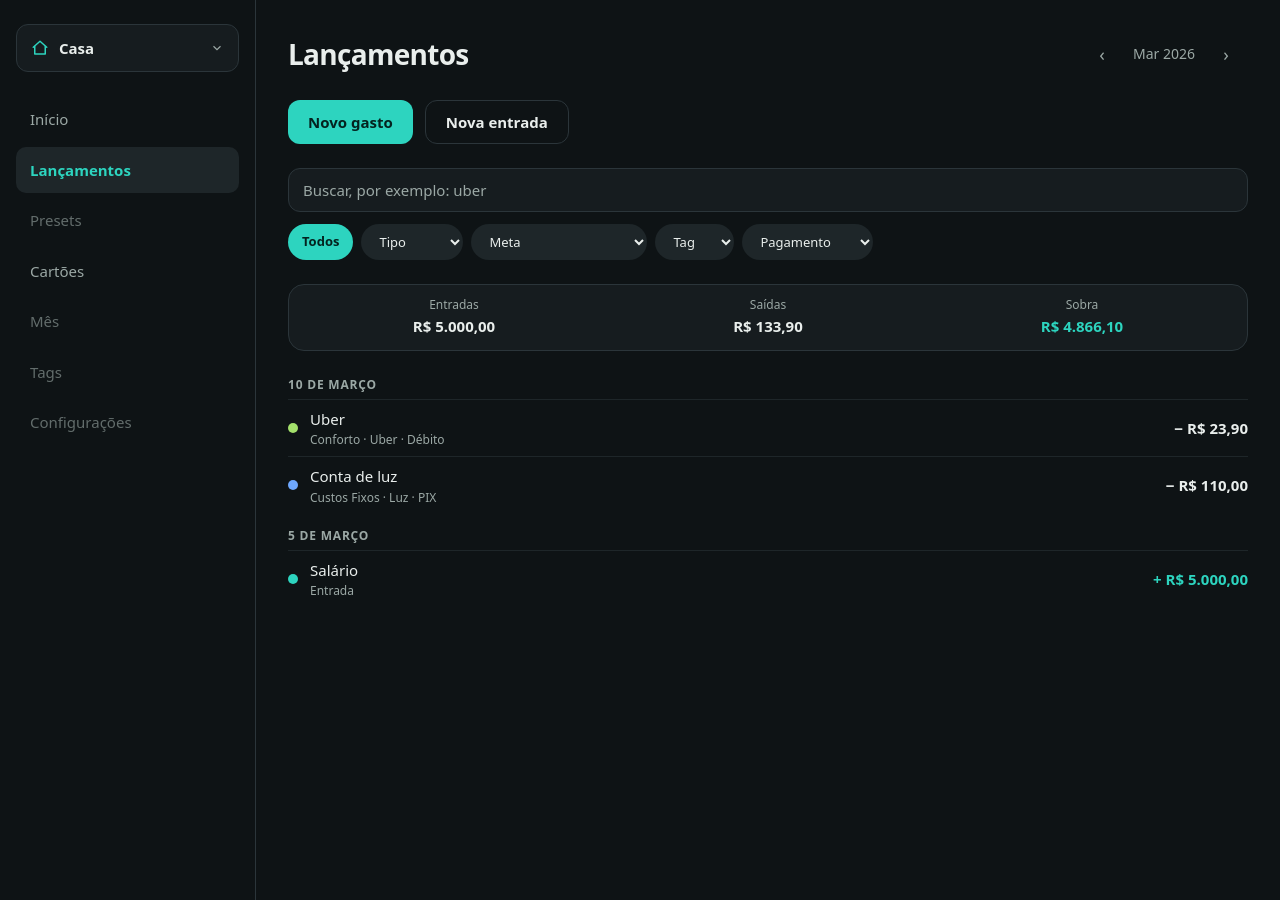
it: lista de lançamentos › trocar de mês refaz a consulta com o mês novo
Check: the text "Mar 2026" is shown, box [1133,44,1195,63]
Click the button named "Próximo mês" at (1226, 54), box [1204,32,1248,76]
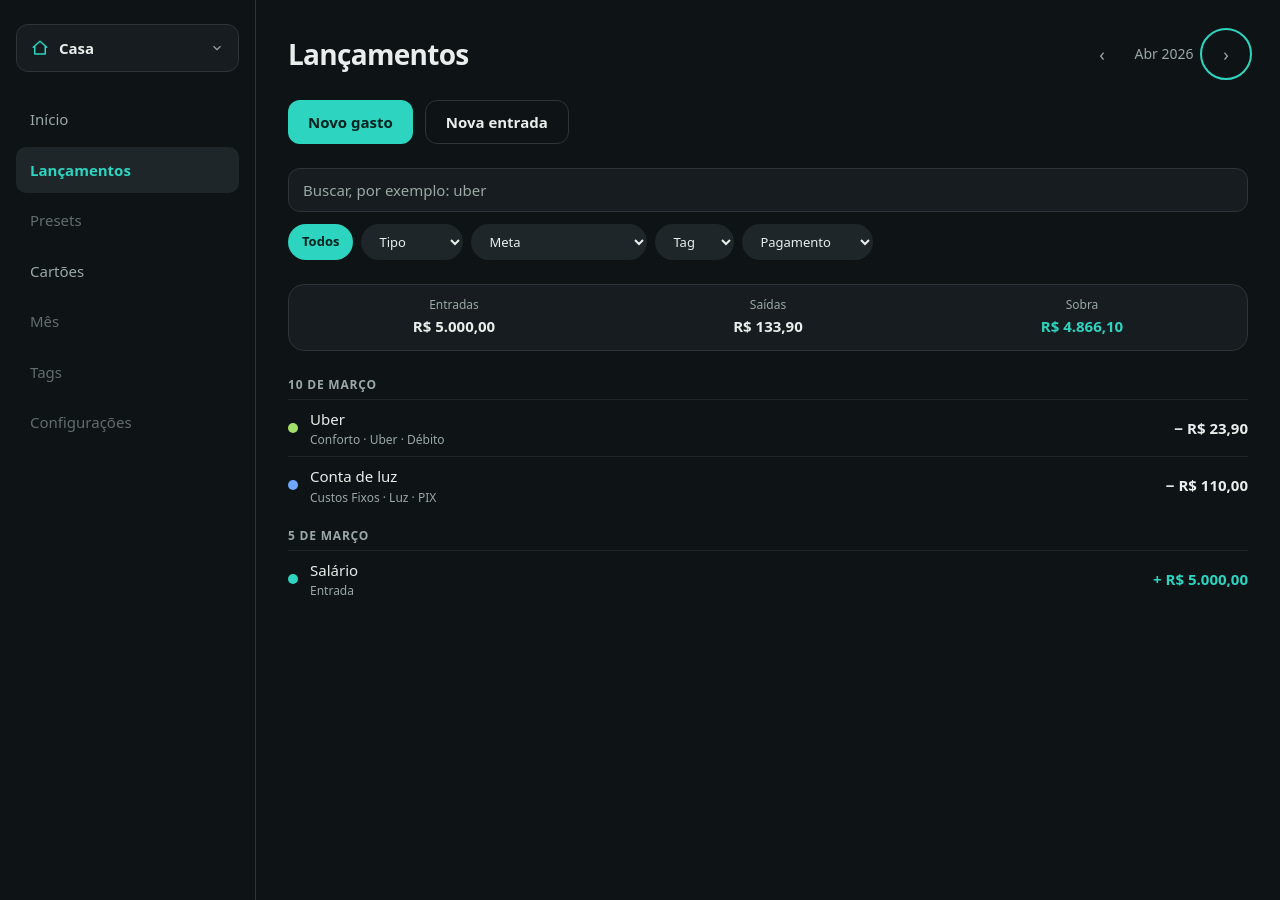
Check: the text "Abr 2026" is shown, box [1134,44,1194,63]
Click the button named "Mês anterior" at (1102, 54), box [1080,32,1124,76]
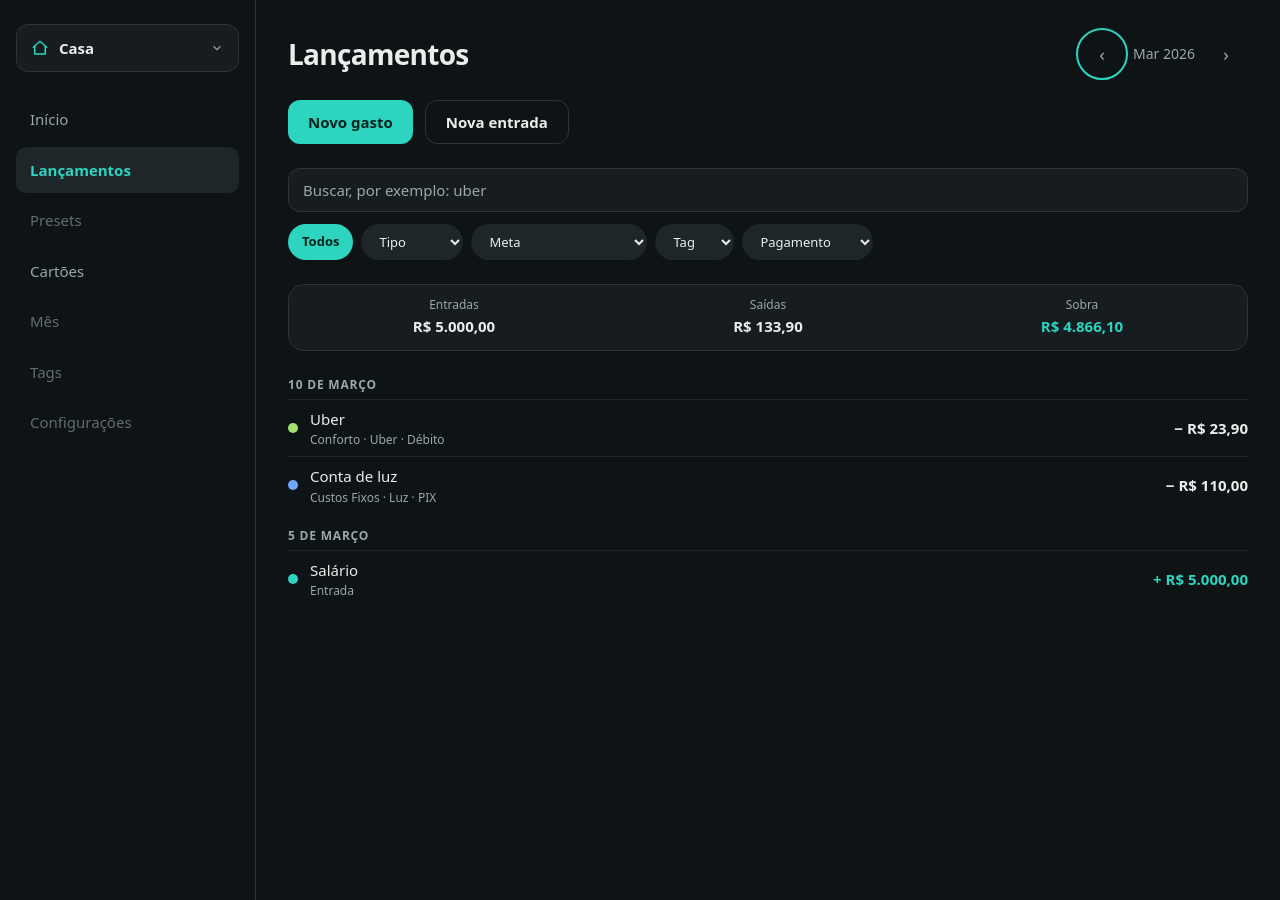
Click the button named "Mês anterior" at (1102, 54), box [1080,32,1124,76]
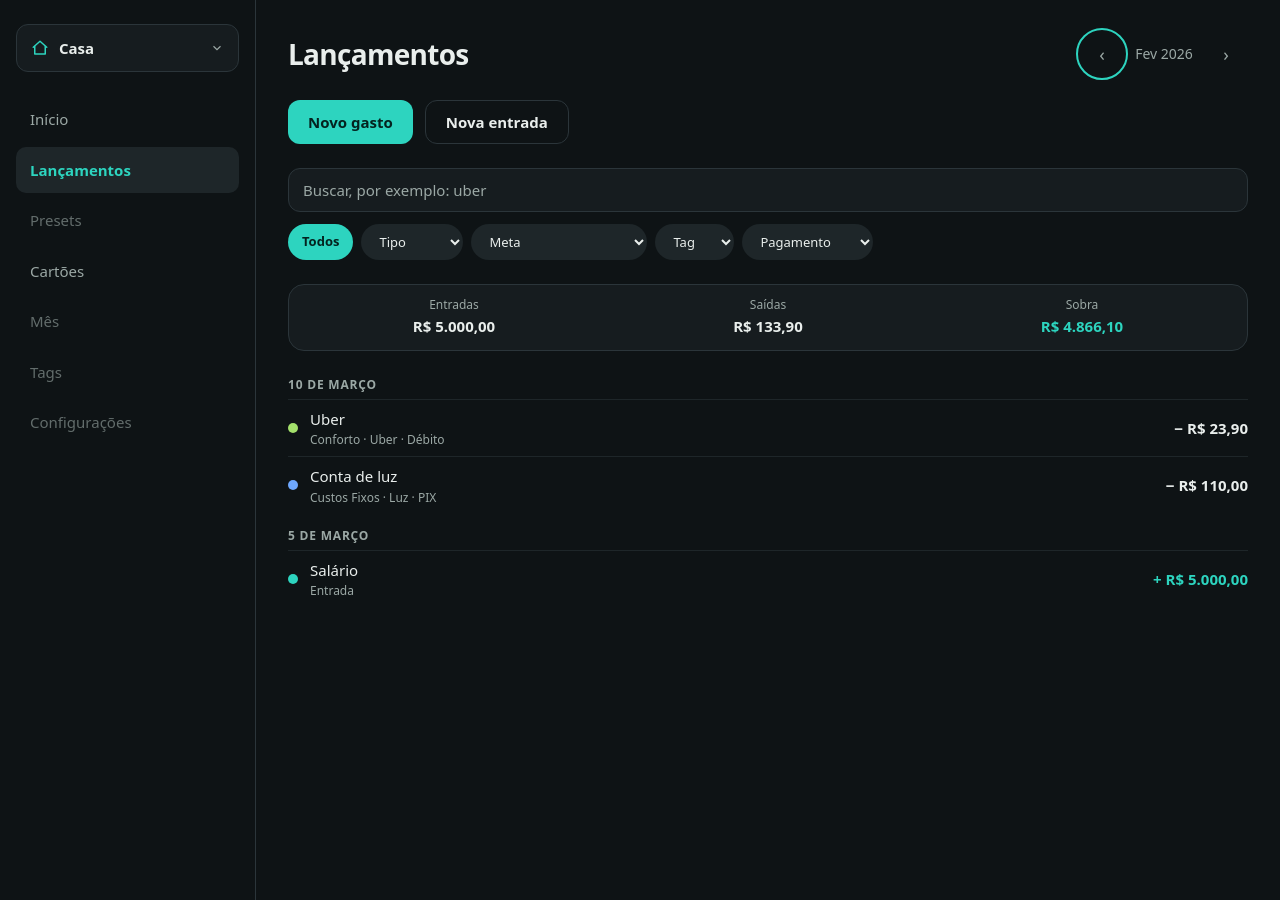
Check: the text "Fev 2026" is shown, box [1135,44,1193,63]
